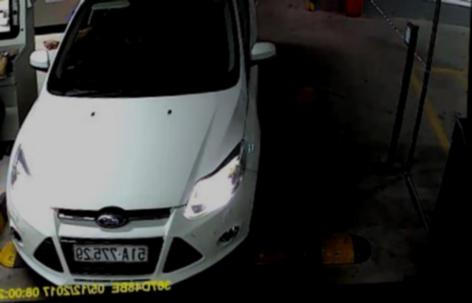License_Plate: (71, 240, 147, 264)
